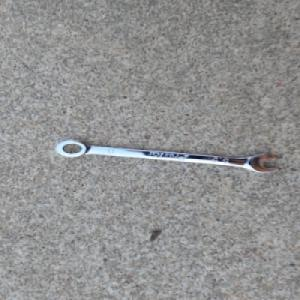Wrench: (53, 138, 280, 174)
